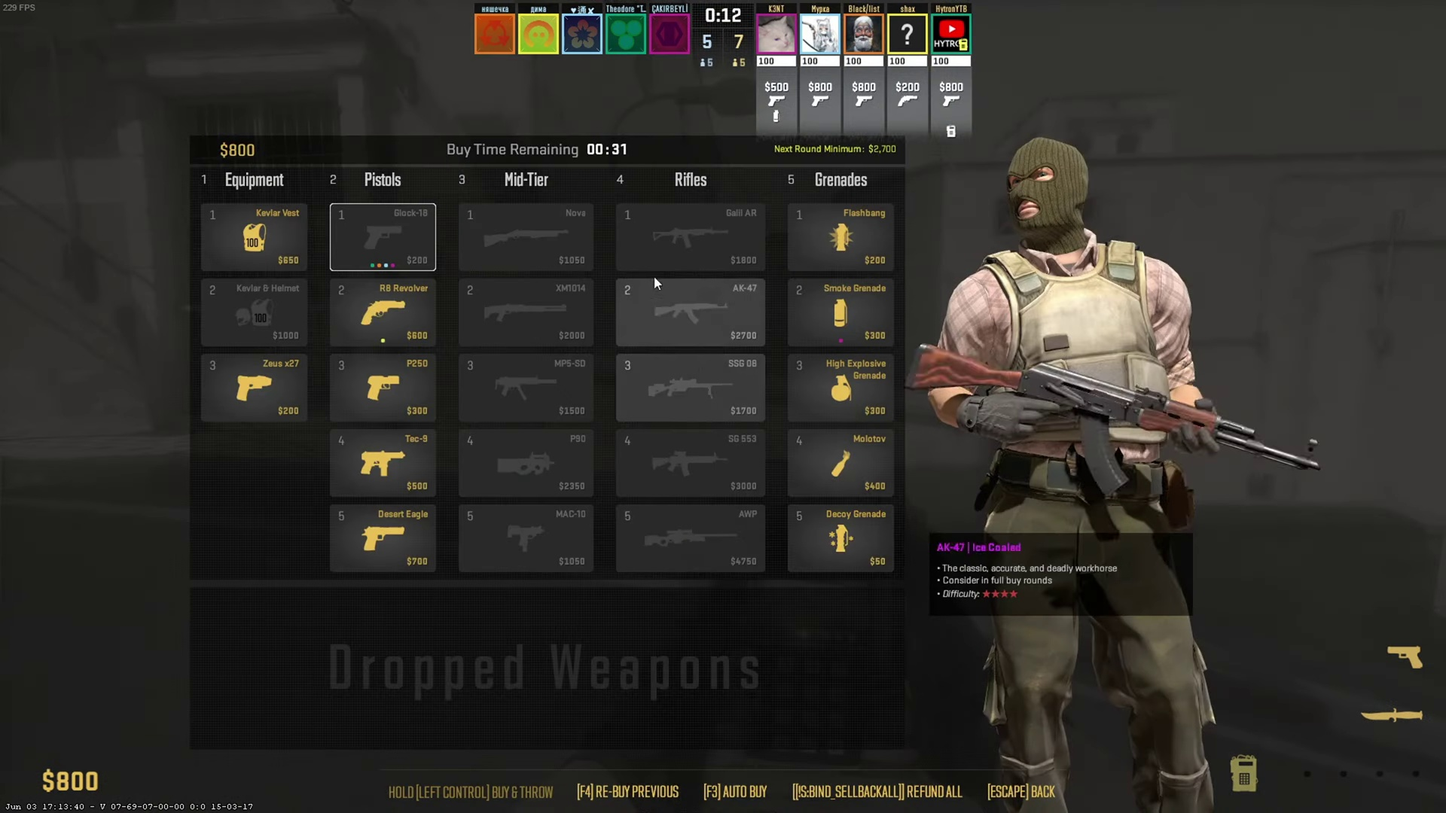Terrorist: (936, 140, 1222, 810)
